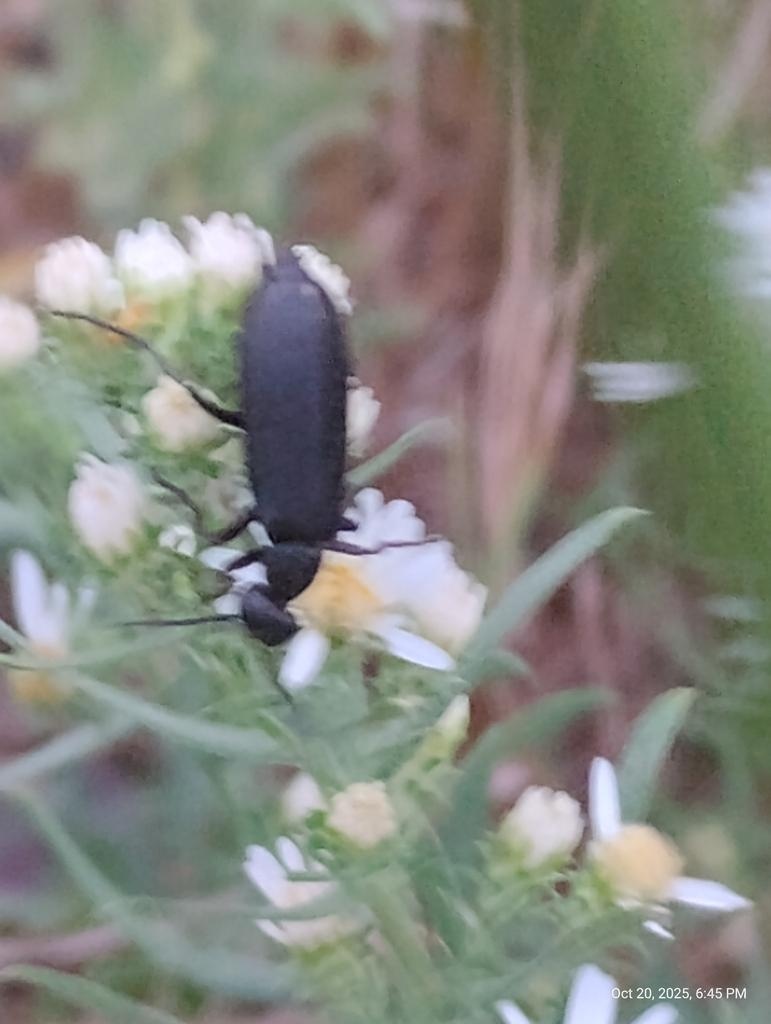blister_beetle: (0, 173, 477, 744)
